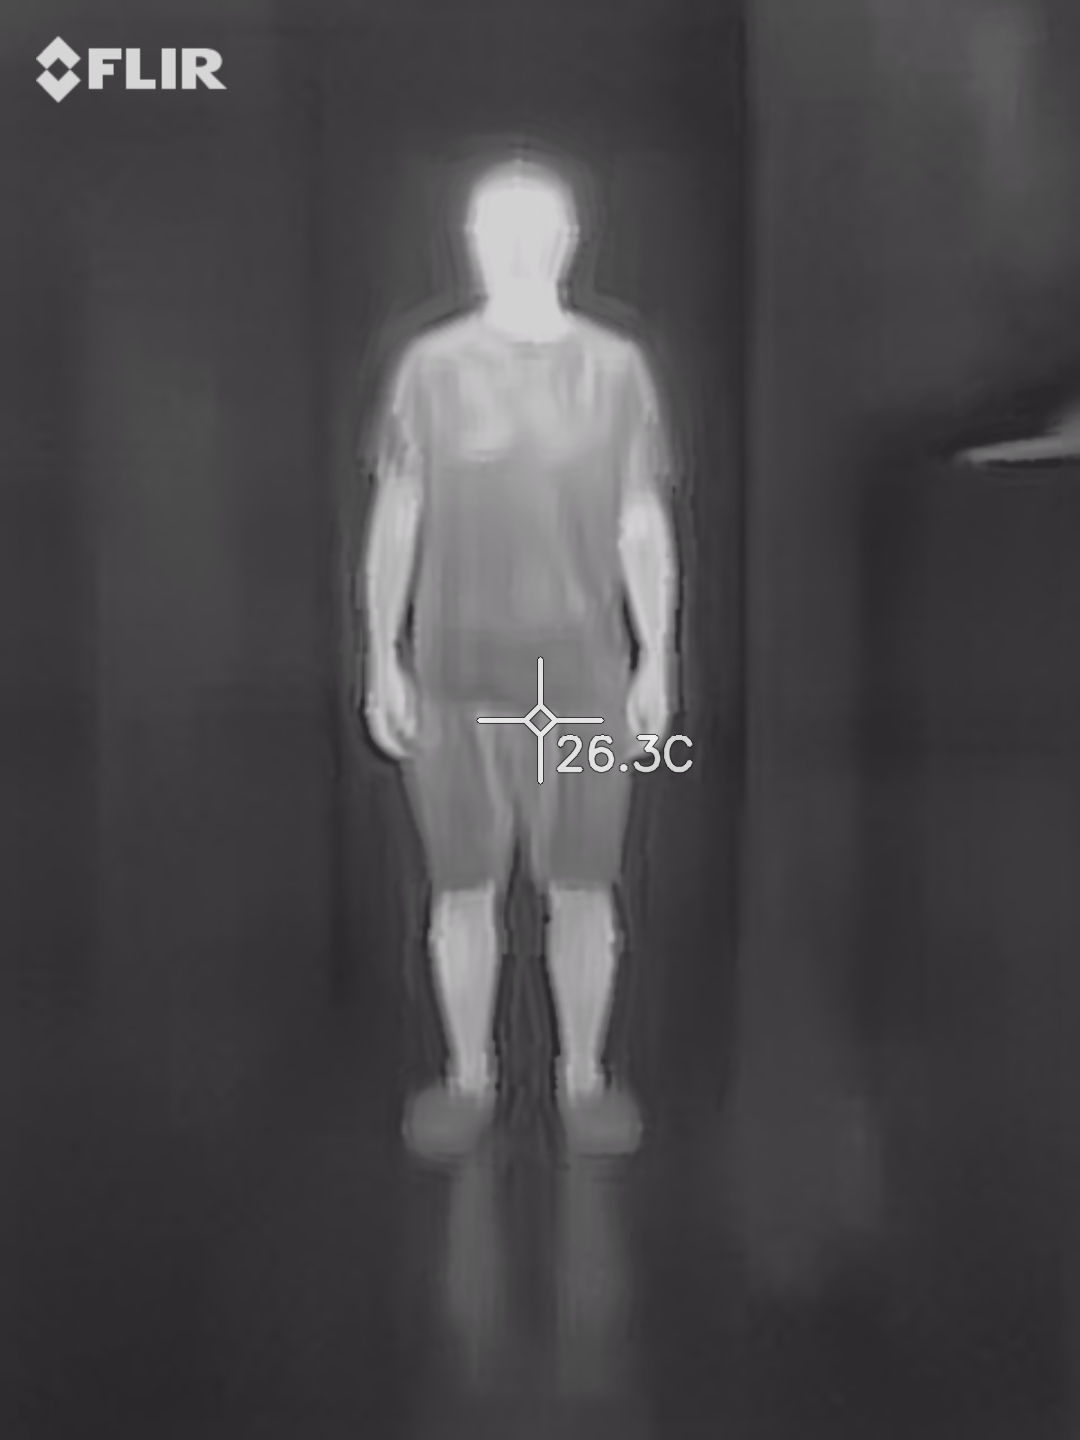head: (463, 160, 582, 306)
